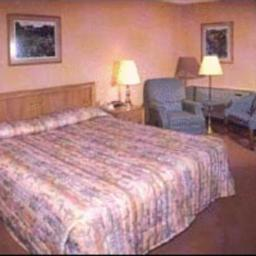Cama: (6, 85, 230, 247)
